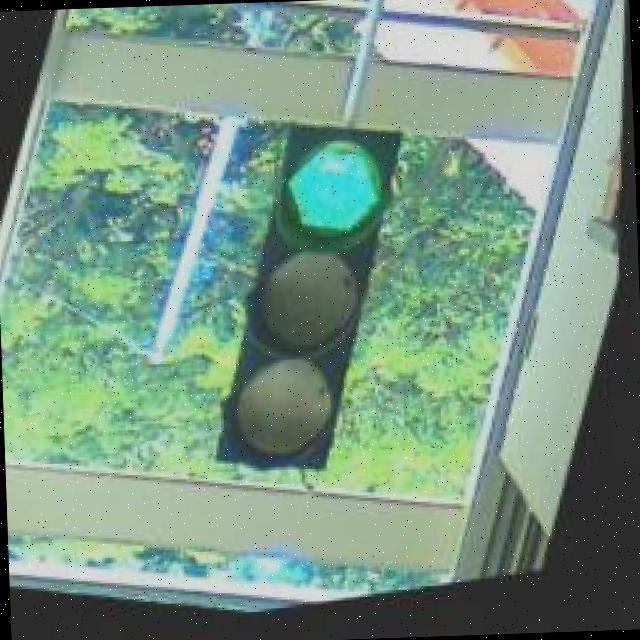green_light: (198, 111, 434, 498)
